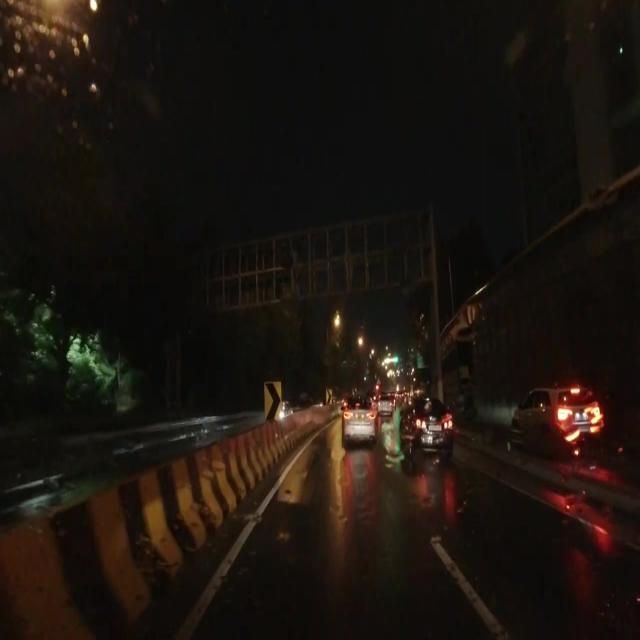Car: (509, 381, 600, 448), (397, 396, 452, 445), (338, 396, 375, 444), (373, 389, 394, 418)
